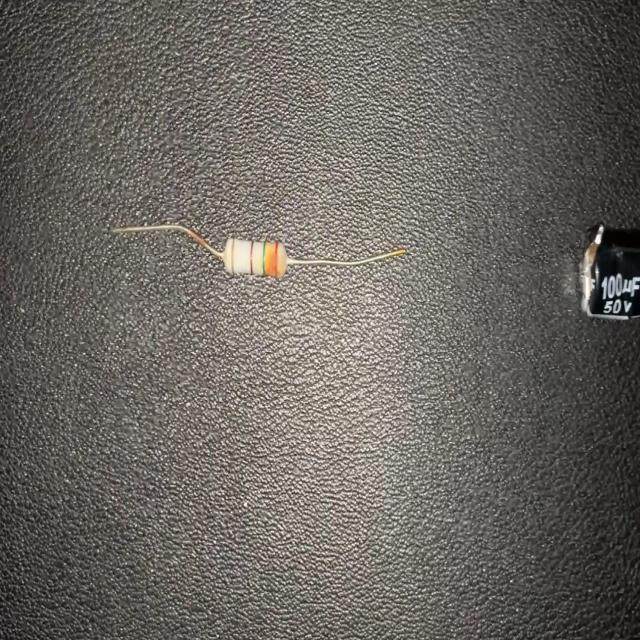burnt: (262, 238, 284, 280)
capacitor: (575, 216, 640, 326)
cracked: (580, 223, 604, 318), (608, 272, 638, 314), (607, 237, 627, 266)
resistor: (110, 215, 406, 284)
rust: (185, 222, 208, 252), (389, 241, 405, 263)
